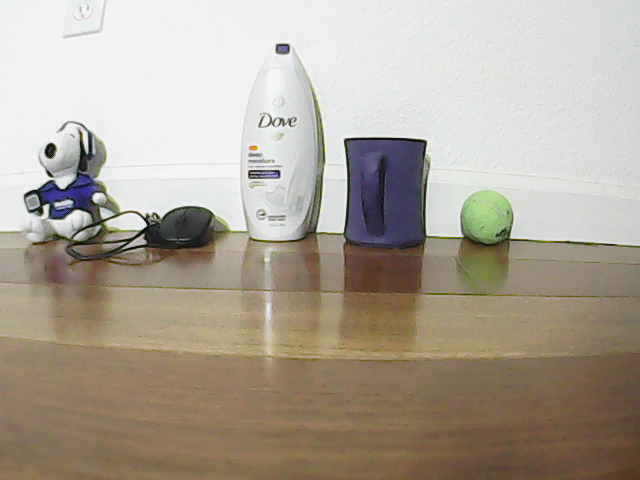ball: (458, 184, 515, 240)
mouse: (156, 198, 217, 251)
mug: (336, 122, 439, 250)
snoopy: (17, 108, 106, 240)
soap: (246, 29, 316, 243)
